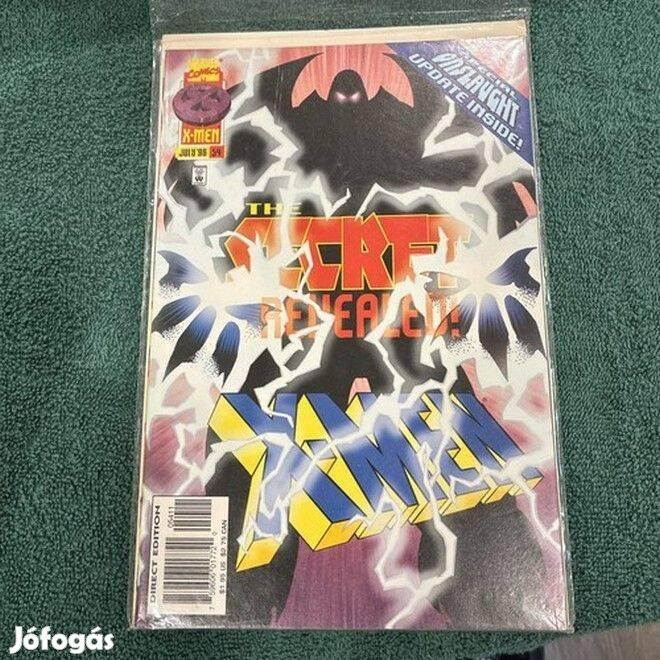comic: (131, 18, 572, 629)
